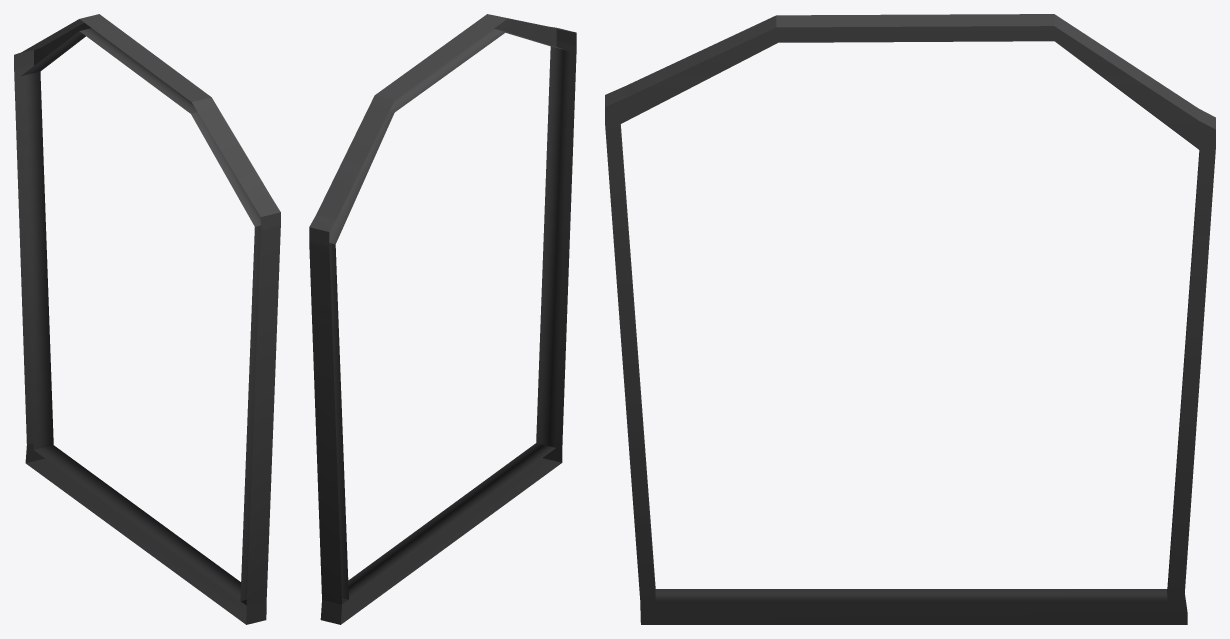
File: cornice_finestra_lvl3.fbx
3 views of the same model, side by side, from view 1: azimuth 30°, elevation 25°; view 2: azimuth 150°, elevation 25°; view 3: azimuth 270°, elevation 25° (orthographic). The views are drawn at different scales.
Parts seen in each view (by area): view 1: pCube3; view 2: pCube3; view 3: pCube3.
Boxes of the visible parts, left/top/right/bottom form: pCube3: left=14, top=14, right=280, bottom=624; pCube3: left=309, top=14, right=576, bottom=624; pCube3: left=605, top=14, right=1215, bottom=624.
Bounding box in the file's own units: 33.92 × 783 × 724.
